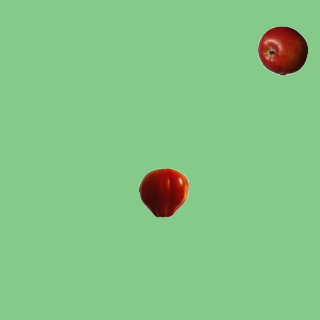Apple Braeburn: (257, 25, 307, 75)
Tomato 1: (138, 167, 188, 217)
